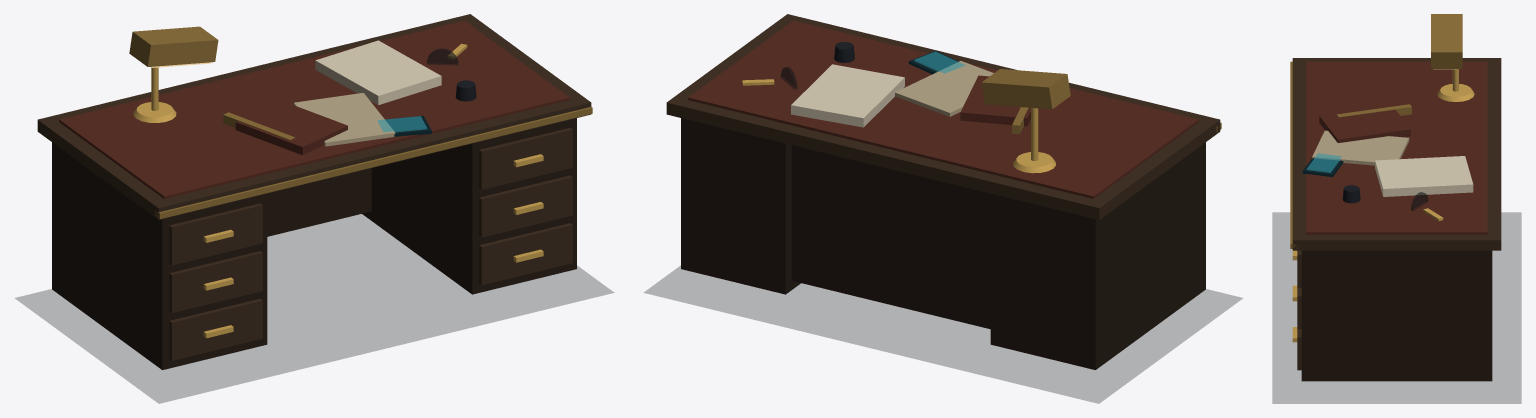
Rendered from hp_room_desire_archive_desk.glb.
The picture shows the model from 3 angles, left to right: view 1: azimuth 30°, elevation 25°; view 2: azimuth 150°, elevation 25°; view 3: azimuth 270°, elevation 25°; orthographic projection. The views are drawn at different scales.
Visible parts, largest first — view 1: contact_shadow, desk_top_inlay, drawer_bank_-1, drawer_bank_1, desk_top, paper_stack_a, modesty_panel, drawer_face_1_0, drawer_face_-1_2, drawer_face_-1_1, drawer_face_-1_0, drawer_face_1_1 (+8 smaller); view 2: drawer_bank_-1, desk_top_inlay, modesty_panel, contact_shadow, drawer_bank_1, desk_top, paper_stack_a, lamp_shade, paper_stack_b, ledger, lamp_base, data_slate (+1 smaller); view 3: drawer_bank_1, desk_top_inlay, contact_shadow, desk_top, paper_stack_a, ledger, paper_stack_b, lamp_shade, desk_edge_brass, data_slate, lamp_base, data_slate_glow (+2 smaller).
Boxes of the visible parts, x1=… form: contact_shadow: x1=15, y1=214, x2=613, y2=403; desk_top_inlay: x1=59, y1=20, x2=569, y2=198; drawer_bank_-1: x1=52, y1=142, x2=267, y2=369; drawer_bank_1: x1=362, y1=118, x2=576, y2=294; desk_top: x1=37, y1=14, x2=591, y2=219; paper_stack_a: x1=315, y1=40, x2=441, y2=104; modesty_panel: x1=267, y1=168, x2=371, y2=236; drawer_face_1_0: x1=479, y1=223, x2=572, y2=285; drawer_face_-1_2: x1=169, y1=203, x2=262, y2=265; drawer_face_-1_1: x1=169, y1=251, x2=262, y2=312; drawer_face_-1_0: x1=169, y1=298, x2=262, y2=360; drawer_face_1_1: x1=479, y1=175, x2=572, y2=237; drawer_bank_-1: x1=990, y1=142, x2=1205, y2=369; desk_top_inlay: x1=688, y1=20, x2=1198, y2=198; modesty_panel: x1=791, y1=145, x2=990, y2=329; contact_shadow: x1=644, y1=266, x2=1242, y2=403; drawer_bank_1: x1=681, y1=118, x2=800, y2=294; desk_top: x1=666, y1=14, x2=1220, y2=219; paper_stack_a: x1=791, y1=64, x2=904, y2=127; lamp_shade: x1=981, y1=69, x2=1070, y2=109; paper_stack_b: x1=895, y1=61, x2=993, y2=116; ledger: x1=960, y1=75, x2=1030, y2=126; lamp_base: x1=1013, y1=152, x2=1055, y2=173; data_slate: x1=908, y1=50, x2=958, y2=74; drawer_bank_1: x1=1301, y1=250, x2=1492, y2=381; desk_top_inlay: x1=1306, y1=61, x2=1487, y2=234; contact_shadow: x1=1272, y1=212, x2=1521, y2=403; desk_top: x1=1292, y1=58, x2=1501, y2=250; paper_stack_a: x1=1375, y1=156, x2=1473, y2=196; ledger: x1=1319, y1=105, x2=1410, y2=142; paper_stack_b: x1=1312, y1=130, x2=1409, y2=165; lamp_shade: x1=1431, y1=14, x2=1462, y2=68; desk_edge_brass: x1=1290, y1=61, x2=1298, y2=248; data_slate: x1=1302, y1=158, x2=1343, y2=177; lamp_base: x1=1437, y1=84, x2=1474, y2=101; data_slate_glow: x1=1306, y1=153, x2=1341, y2=172.
Bounding box in the file's own units: 2 × 1.14 × 1.1.
